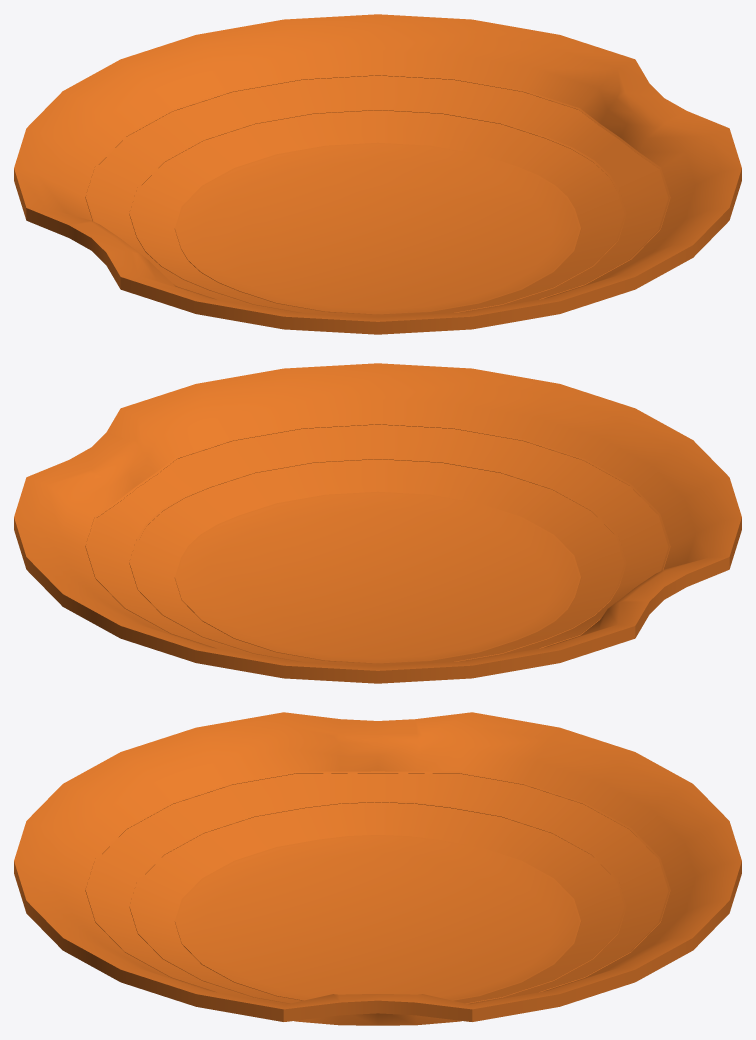
Rendered from Dinky_Sled.fbx.
3 renders of one model, top to bottom at view 1: azimuth 30°, elevation 25°; view 2: azimuth 150°, elevation 25°; view 3: azimuth 270°, elevation 25°, orthographic.
Visible parts, largest first — view 1: Dinky_Sled; view 2: Dinky_Sled; view 3: Dinky_Sled.
Part boxes in pixels (box(x1,y1,x2,y2)): Dinky_Sled: box(14, 14, 741, 334); Dinky_Sled: box(14, 363, 741, 683); Dinky_Sled: box(14, 712, 741, 1025).
Bounding box in the file's own units: 185 × 27.44 × 192.
